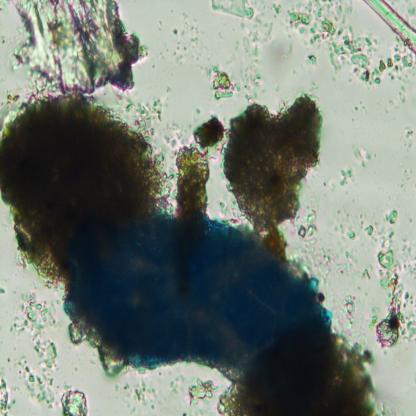Background material: (0, 97, 156, 257), (220, 90, 324, 228), (15, 0, 148, 96), (230, 332, 378, 415), (288, 8, 412, 84), (17, 288, 58, 409), (371, 250, 416, 350), (237, 16, 275, 100), (364, 2, 416, 53), (173, 147, 210, 213), (168, 14, 210, 70), (327, 200, 359, 244), (118, 381, 162, 410), (192, 117, 225, 153), (337, 254, 366, 290), (210, 0, 255, 23), (58, 388, 90, 415), (382, 88, 414, 115), (211, 67, 236, 101), (188, 377, 218, 405), (334, 298, 358, 332), (297, 212, 317, 244), (0, 378, 14, 415), (354, 145, 371, 166), (401, 133, 415, 154), (338, 168, 353, 186), (363, 224, 375, 238), (387, 213, 398, 226), (273, 3, 283, 17)
Fragment: (62, 214, 332, 379)
